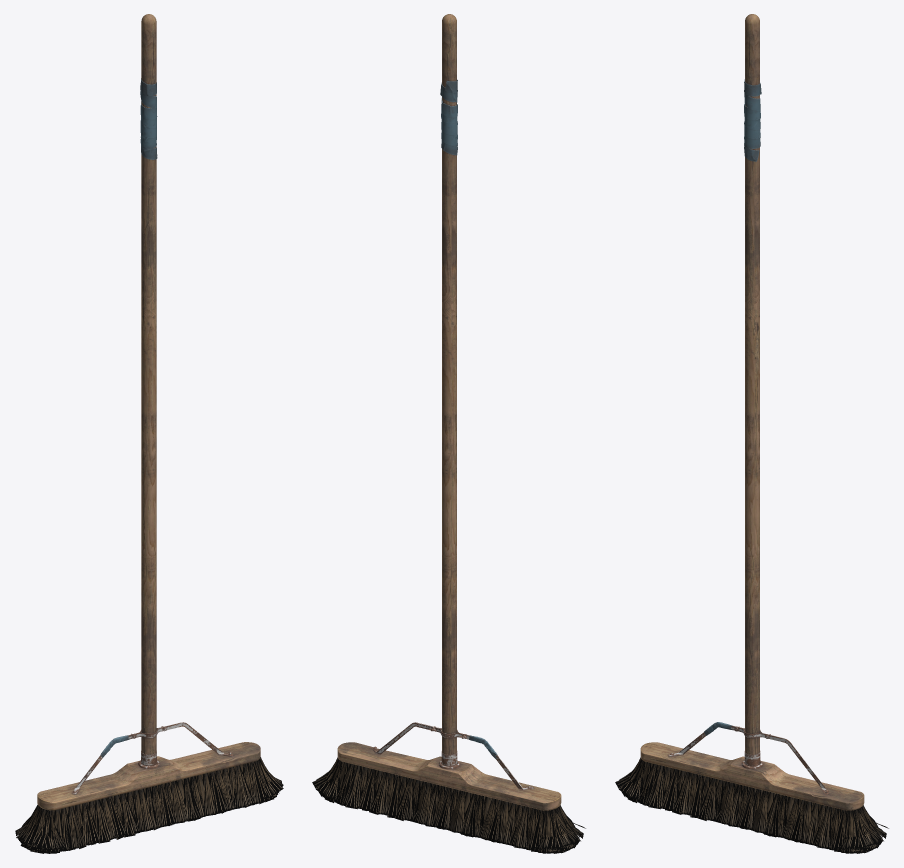
File: ph_wooden_broom.glb
3 views of the same model, side by side, from view 1: azimuth 30°, elevation 25°; view 2: azimuth 150°, elevation 25°; view 3: azimuth 330°, elevation 25° (orthographic).
Parts seen in each view (by area): view 1: ph_wooden_broom; view 2: ph_wooden_broom; view 3: ph_wooden_broom.
Part boxes in pixels (<box>): ph_wooden_broom: <box>15,14,283,853</box>; ph_wooden_broom: <box>312,14,585,853</box>; ph_wooden_broom: <box>615,14,888,853</box>.
Size of the model in its own units: 0.4902 by 1.45 by 0.1125.
2 materials, 2 textured.
